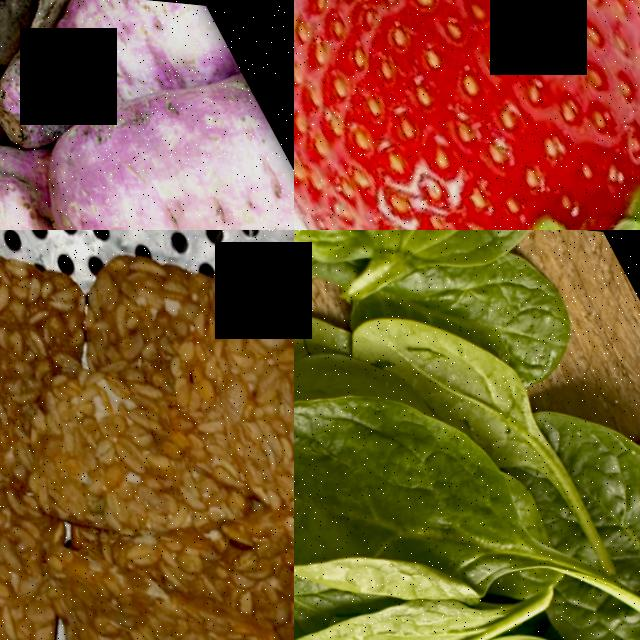spinach: (294, 313, 556, 640), (510, 358, 640, 640), (351, 230, 595, 310)
strawberry: (294, 0, 640, 230)
sweet potato: (18, 25, 294, 230), (0, 0, 232, 163)
tempeh: (52, 230, 254, 452), (181, 230, 294, 552), (53, 502, 292, 640), (0, 230, 112, 476), (0, 461, 103, 640)
